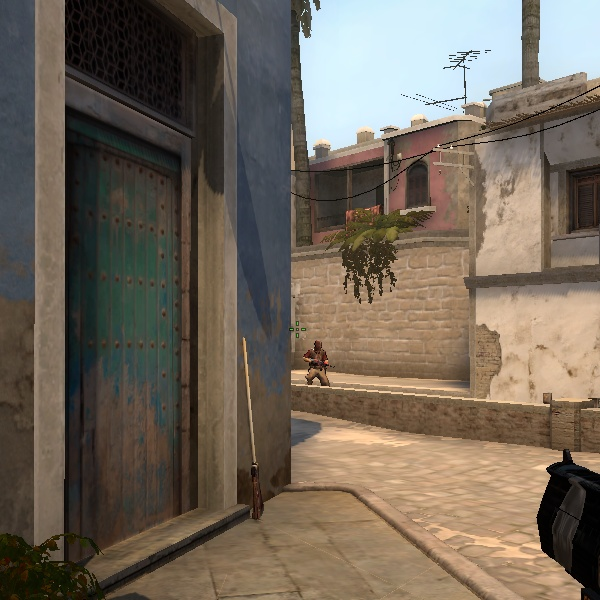t_body: (300, 338, 333, 387)
